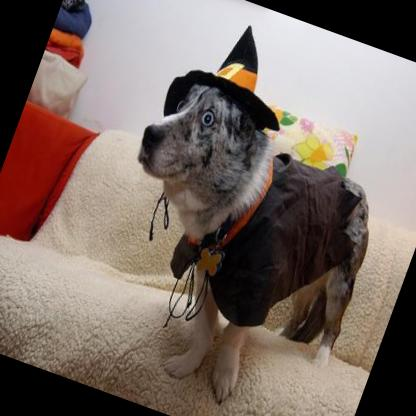Cardigan: (63, 60, 406, 416)
